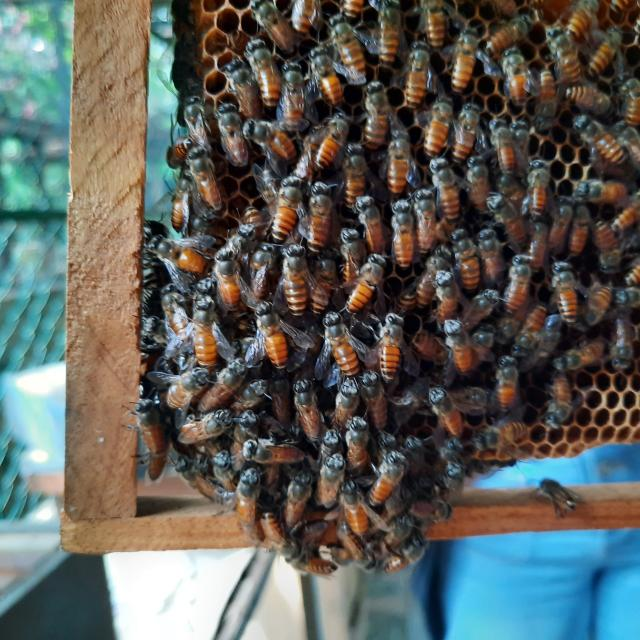honeybee: (323, 7, 367, 82), (133, 403, 171, 488), (207, 98, 252, 168), (248, 112, 298, 170), (368, 0, 409, 69), (565, 114, 624, 161), (501, 245, 540, 316), (150, 230, 205, 280), (424, 382, 465, 449), (319, 309, 359, 377), (255, 301, 294, 370), (189, 148, 232, 210), (153, 277, 192, 345), (374, 306, 412, 375), (246, 1, 292, 57), (535, 474, 588, 522), (364, 370, 404, 433), (385, 193, 420, 264), (245, 238, 282, 305), (490, 186, 526, 252), (317, 109, 354, 172), (546, 252, 583, 313), (160, 170, 197, 231), (250, 34, 285, 98), (308, 46, 344, 108), (310, 173, 339, 248), (485, 8, 535, 51), (352, 191, 388, 249), (172, 453, 219, 497), (204, 358, 247, 406), (208, 245, 238, 313), (385, 128, 417, 191), (448, 26, 478, 93), (462, 154, 489, 228), (278, 243, 306, 314), (265, 367, 293, 436), (491, 361, 524, 419), (534, 70, 564, 132), (338, 478, 370, 536), (408, 187, 436, 253), (546, 24, 582, 75), (290, 376, 320, 437), (280, 542, 328, 580), (586, 28, 624, 76), (281, 61, 309, 126), (232, 59, 262, 119), (481, 421, 543, 450), (358, 81, 389, 139), (516, 308, 549, 362), (177, 410, 236, 440), (382, 534, 426, 574), (189, 304, 217, 366), (450, 228, 482, 282), (441, 319, 476, 368), (276, 179, 304, 240), (231, 460, 254, 534), (425, 160, 458, 211), (312, 254, 340, 314), (351, 252, 381, 308), (455, 100, 485, 155), (371, 453, 398, 514), (168, 366, 212, 403), (424, 92, 453, 148), (570, 173, 624, 203), (312, 458, 343, 509), (345, 418, 376, 469), (549, 372, 578, 426), (482, 114, 510, 169), (565, 82, 622, 109), (529, 222, 560, 271), (341, 140, 368, 196), (239, 439, 310, 460), (417, 0, 448, 48), (562, 336, 601, 374), (330, 379, 358, 431), (230, 202, 263, 245), (528, 155, 552, 214), (596, 215, 621, 271), (401, 42, 426, 98), (570, 206, 600, 252), (338, 521, 368, 567), (503, 44, 528, 99), (336, 230, 363, 280), (411, 494, 455, 524), (256, 507, 282, 557), (458, 289, 498, 320), (612, 318, 640, 362), (614, 119, 640, 166), (211, 449, 240, 491), (161, 132, 199, 164), (508, 119, 530, 171), (287, 472, 312, 516), (404, 434, 432, 473), (550, 198, 570, 252), (419, 326, 446, 363), (617, 77, 640, 120), (479, 233, 500, 280), (409, 263, 434, 302), (613, 195, 640, 229), (564, 0, 590, 35), (448, 385, 488, 407), (294, 520, 327, 546), (621, 255, 640, 300), (294, 0, 316, 36), (448, 460, 481, 484), (238, 410, 261, 438), (242, 376, 268, 399)
